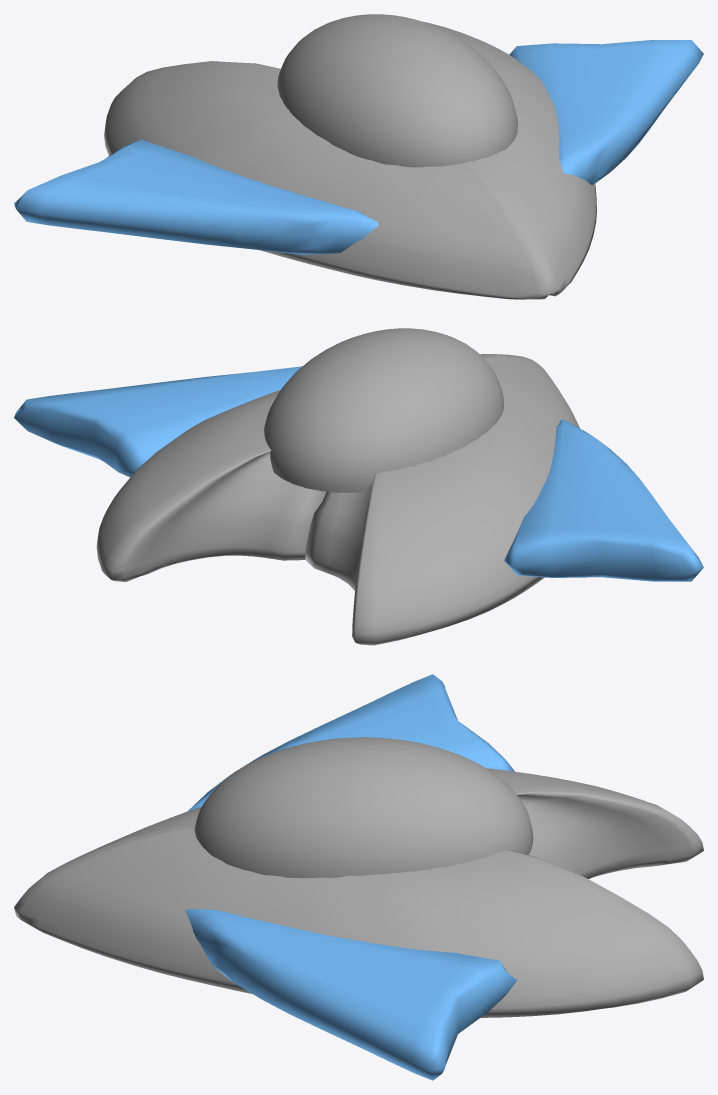
File: enemyship.fbx
3 renders of one model, top to bottom at view 1: azimuth 30°, elevation 25°; view 2: azimuth 150°, elevation 25°; view 3: azimuth 270°, elevation 25°, orthographic. The views are drawn at different scales.
Parts seen in each view (by area): view 1: pCube1, pSphere1, pCube2, pasted__pCube2, pasted__pCube1; view 2: pCube1, pSphere1, pasted__pCube1, pCube2, pasted__pCube2; view 3: pasted__pCube1, pSphere1, pasted__pCube2, pCube1, pCube2.
Part boxes in pixels (x1,y1,x2,y2): pCube1: (104,61,551,299); pSphere1: (277,14,517,167); pCube2: (14,139,378,254); pasted__pCube2: (509,40,703,184); pasted__pCube1: (423,21,596,296); pCube1: (305,354,579,645); pSphere1: (264,328,503,492); pasted__pCube1: (96,354,494,581); pCube2: (504,419,703,581); pasted__pCube2: (14,366,302,477); pasted__pCube1: (14,827,703,1017); pSphere1: (194,737,533,878); pasted__pCube2: (185,909,516,1080); pCube1: (33,768,703,884); pCube2: (188,674,514,810).
Size of the model in its own units: 17.3 by 3.83 by 13.53.
